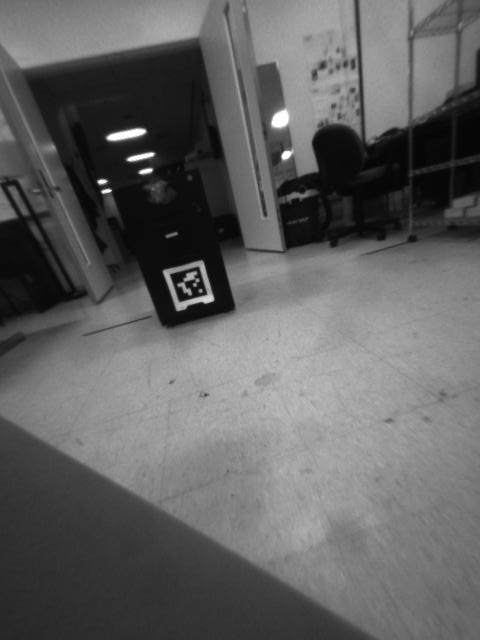handle: (143, 183, 174, 207)
